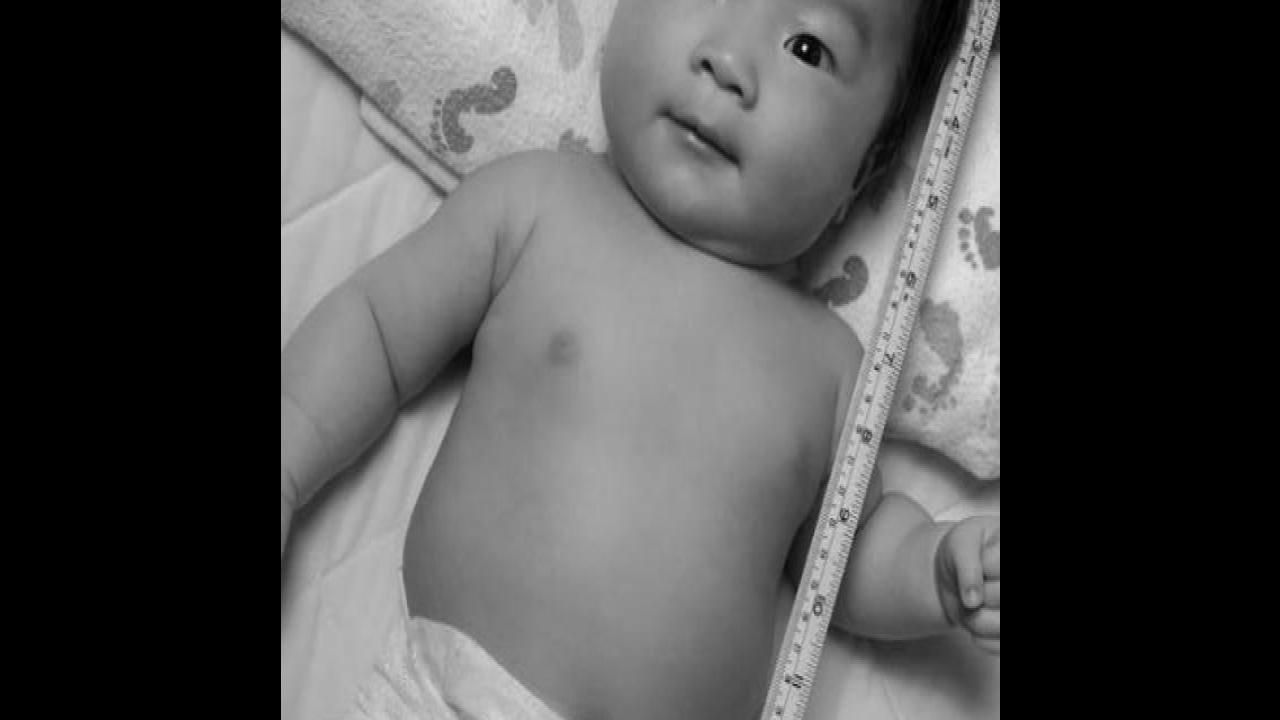hand: (932, 498, 1000, 664)
